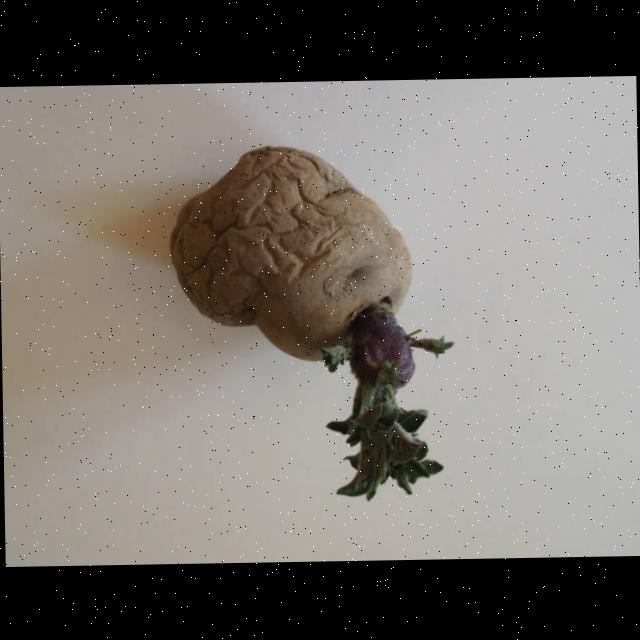Sprouted potato: (158, 122, 472, 560)
